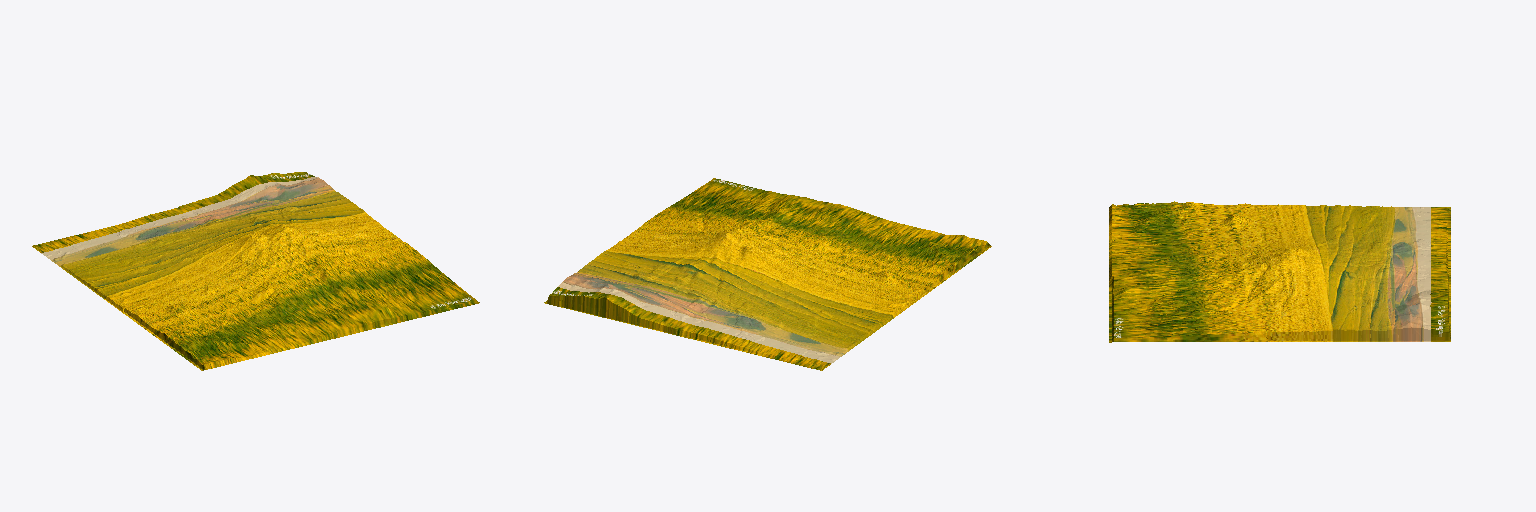
3 views of the same model, side by side, from view 1: azimuth 30°, elevation 25°; view 2: azimuth 150°, elevation 25°; view 3: azimuth 270°, elevation 25° (orthographic).
Visible parts, largest first — view 1: vue_ready_shasta.002; view 2: vue_ready_shasta.002; view 3: vue_ready_shasta.002.
Part boxes in pixels (left/top/right/bottom): vue_ready_shasta.002: left=32, top=172, right=479, bottom=370; vue_ready_shasta.002: left=544, top=178, right=991, bottom=370; vue_ready_shasta.002: left=1109, top=201, right=1450, bottom=342.
Bounding box in the file's own units: 15.95 × 2.04 × 16.94.
1 materials, 1 textured.